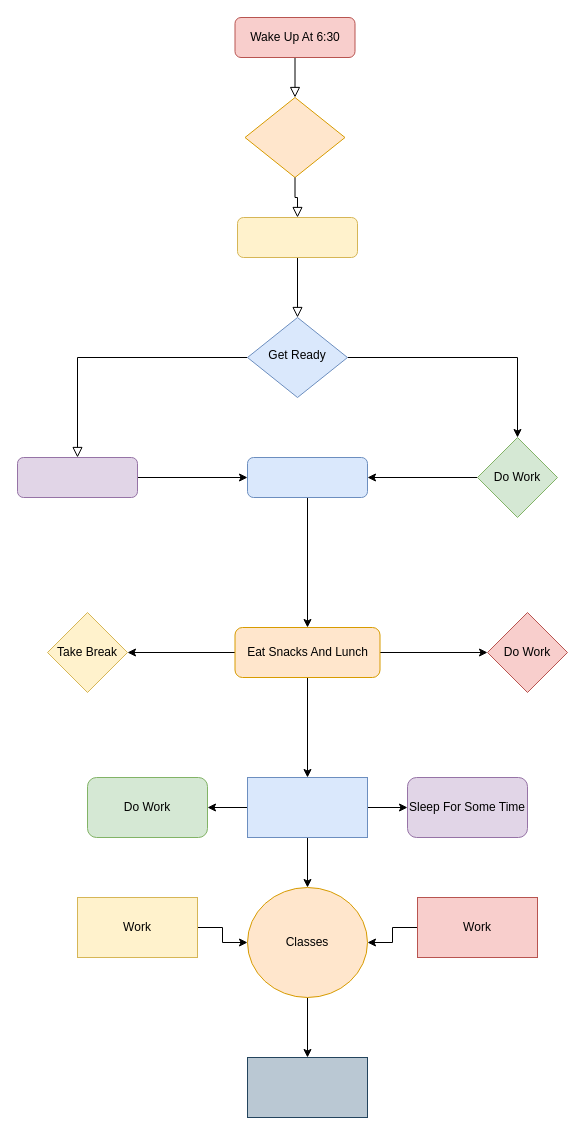
The diagram is 585 pixels wide and 1135 high, and some of its shapes have lost their labels. The shapes that lost their labels are listed below. From the top down, each one's centre as x and y in pixels, then its label:
(x=294, y=137): Brush Teeth
(x=297, y=237): Go bath
(x=77, y=477): Get BreakFast
(x=307, y=477): Go To School
(x=307, y=807): Go Home
(x=307, y=1087): Sleep
